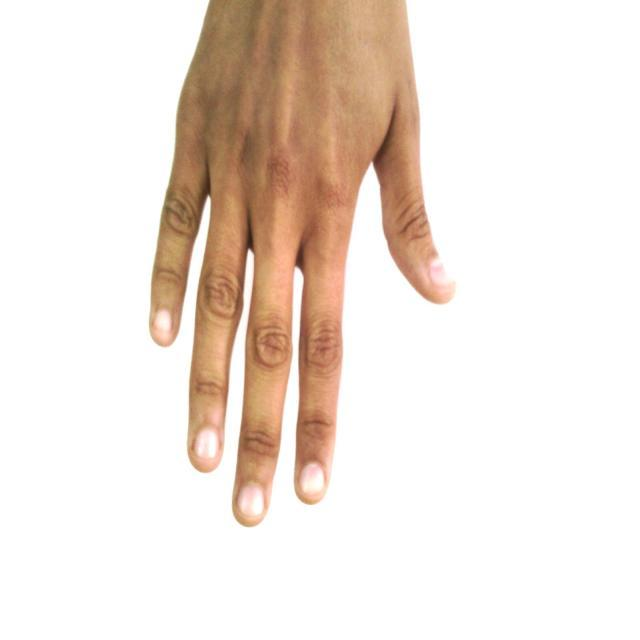Fingernail: (240, 484, 264, 517), (301, 464, 325, 496), (195, 429, 219, 458), (430, 259, 453, 288), (154, 310, 171, 336)
